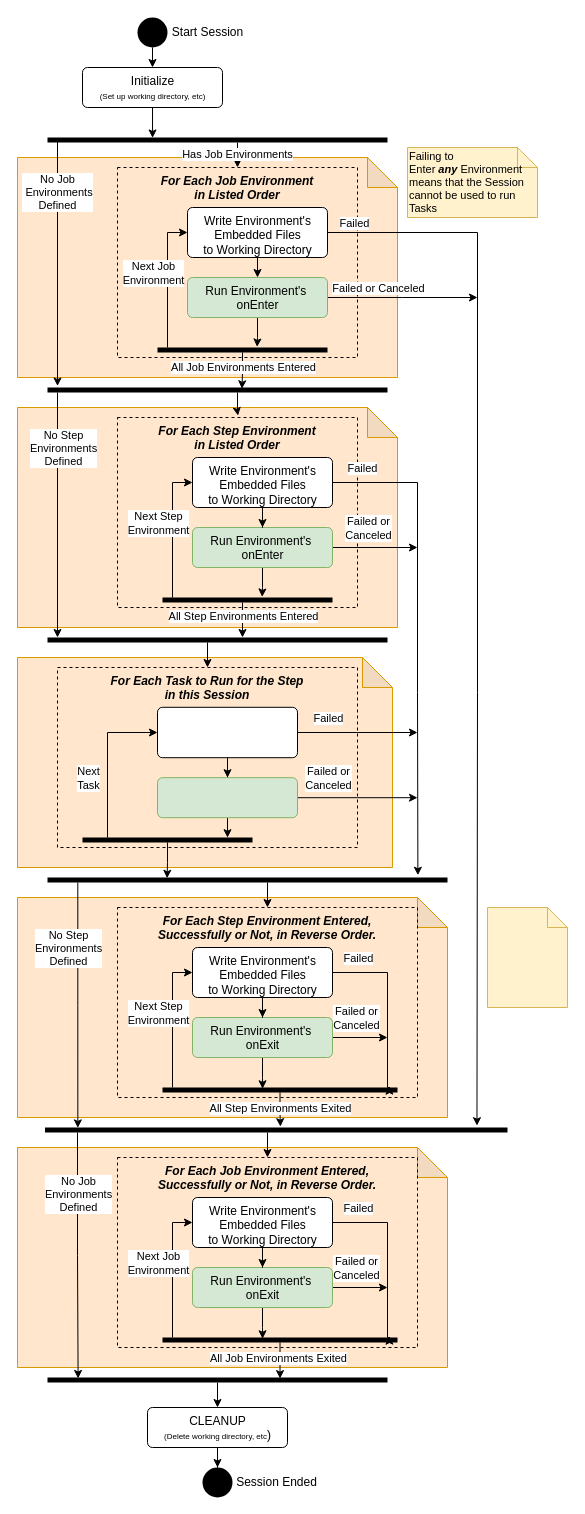
Some shapes in this 585 by 1514 pixel diagram are drawn without their labels. The shapes that lost their labels are listed below. From the top down, each one's centre as x and y in pixels, then its label:
the point at 227,732: Write Step Script's Embedded Files to Working Directory
the point at 227,797: Run Step Script's
the point at 527,957: All Environment Exits must be attempted, even if an Exit fails.
